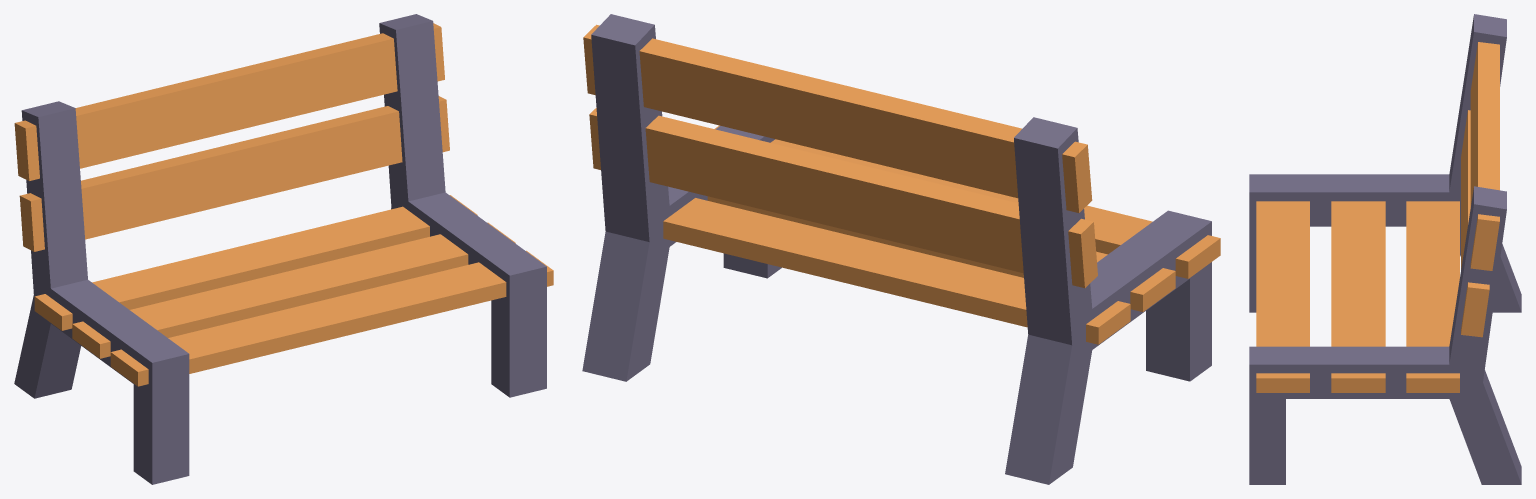
3 views of the same model, side by side, from view 1: azimuth 30°, elevation 25°; view 2: azimuth 150°, elevation 25°; view 3: azimuth 270°, elevation 25° (orthographic). The views are drawn at different scales.
Visible parts, largest first — view 1: benchPhysicalDynamic; view 2: benchPhysicalDynamic; view 3: benchPhysicalDynamic.
Part boxes in pixels (box(x1,y1,x2,y2)): benchPhysicalDynamic: box(14, 14, 553, 484); benchPhysicalDynamic: box(582, 14, 1220, 484); benchPhysicalDynamic: box(1249, 14, 1521, 484).
Bounding box in the file's own units: 2.39 × 1.56 × 1.37.
1 material, 1 textured.
